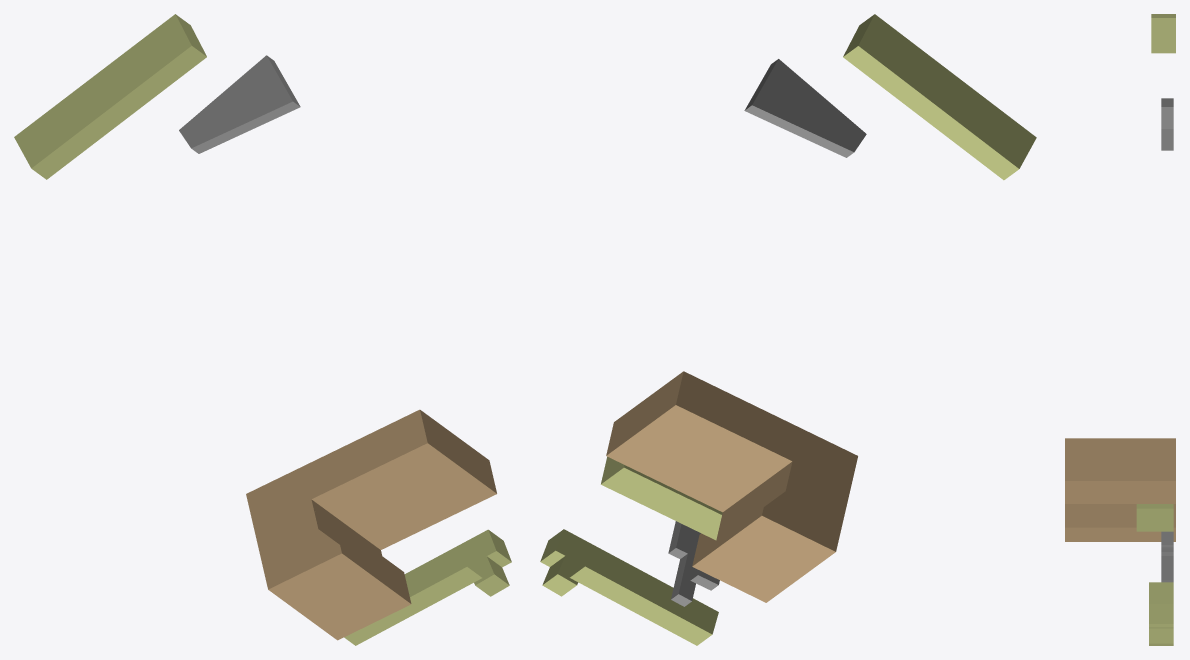
3 views of the same model, side by side, from view 1: azimuth 30°, elevation 25°; view 2: azimuth 150°, elevation 25°; view 3: azimuth 270°, elevation 25° (orthographic). The views are drawn at different scales.
Parts seen in each view (by area): view 1: 0_1_0_2_0_3_1; view 2: 0_1_0_2_0_3_1; view 3: 0_1_0_2_0_3_1.
Boxes of the visible parts, bbox=[...] form: 0_1_0_2_0_3_1: bbox=[14, 14, 511, 645]; 0_1_0_2_0_3_1: bbox=[540, 14, 1036, 645]; 0_1_0_2_0_3_1: bbox=[1065, 14, 1175, 645].
Size of the model in its own units: 108 by 141 by 27.
